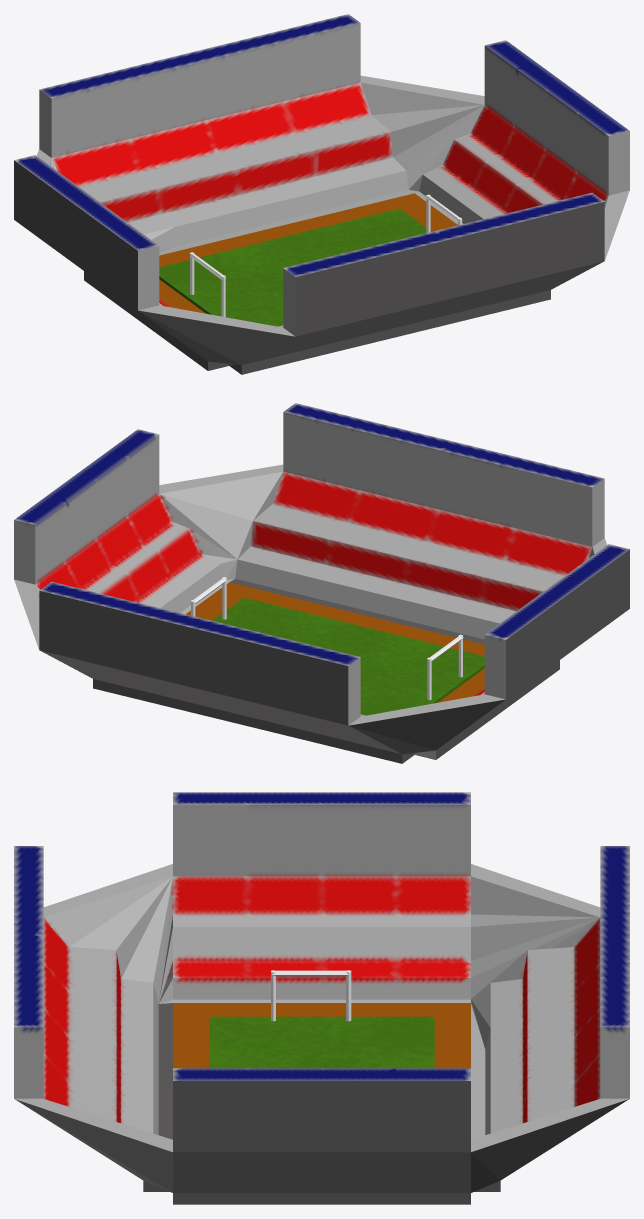
Rendered from Level1.fbx.
3 renders of one model, top to bottom at view 1: azimuth 30°, elevation 25°; view 2: azimuth 150°, elevation 25°; view 3: azimuth 270°, elevation 25°, orthographic. The views are drawn at different scales.
Parts seen in each view (by area): view 1: Campo1; view 2: Campo1; view 3: Campo1.
Part boxes in pixels (x1,y1,x2,y2): Campo1: (14, 14, 629, 374); Campo1: (14, 403, 629, 763); Campo1: (14, 792, 629, 1204).
Size of the model in its own units: 80.1 by 21.35 by 72.28.
Materials: 1 (1 with a texture image).
